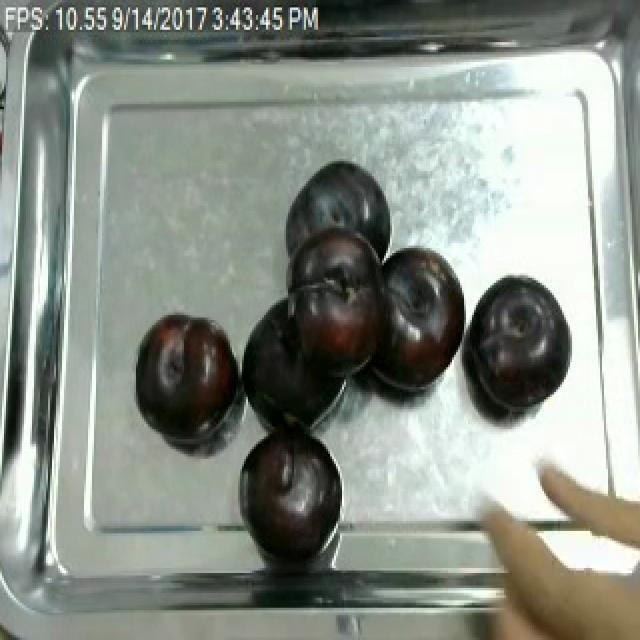Fruit: (374, 236, 470, 402), (468, 273, 576, 417), (134, 310, 242, 442), (238, 424, 342, 561)
